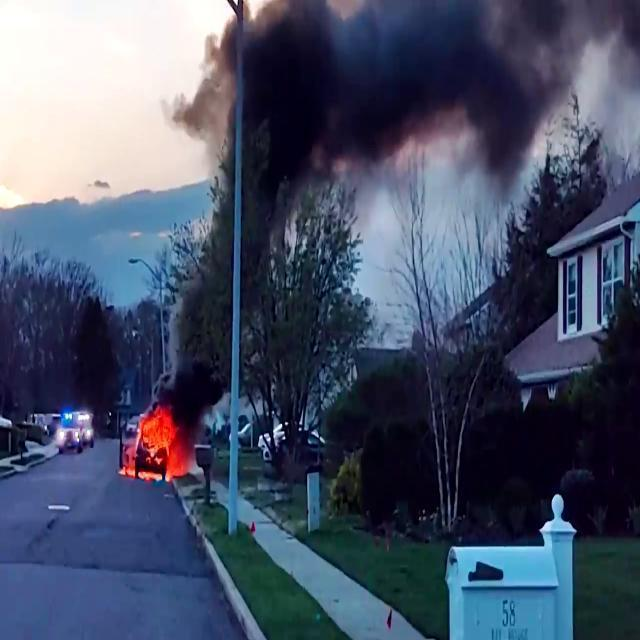Fire: (128, 410, 184, 482)
Smoke: (159, 0, 379, 400), (317, 0, 554, 202)
